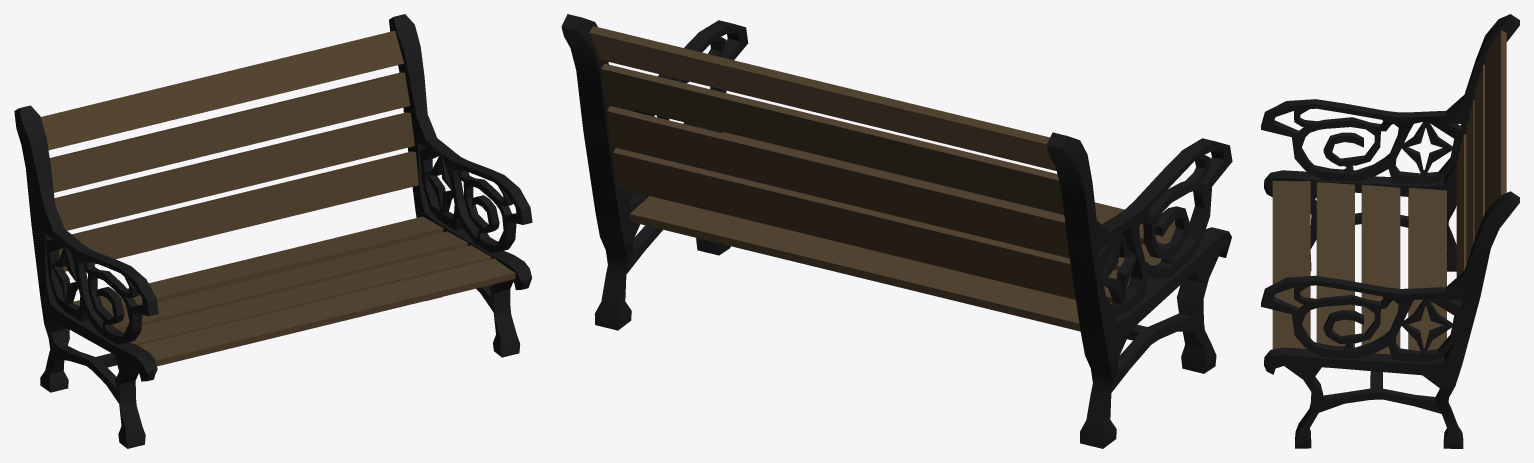
The model's file is citybench.fbx.
3 renders of one model, left to right at view 1: azimuth 30°, elevation 25°; view 2: azimuth 150°, elevation 25°; view 3: azimuth 270°, elevation 25°, orthographic. The views are drawn at different scales.
Parts seen in each view (by area): view 1: Cube.003, Cube; view 2: Cube.003, Cube; view 3: Cube, Cube.003.
Part boxes in pixels (x1,y1,x2,y2): Cube.003: [40, 30, 515, 366]; Cube: [14, 14, 532, 448]; Cube.003: [589, 26, 1175, 331]; Cube: [561, 14, 1232, 448]; Cube: [1261, 14, 1519, 448]; Cube.003: [1272, 30, 1506, 354].
Size of the model in its own units: 236 by 148 by 138.
